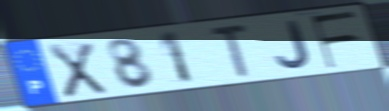1: (157, 29, 195, 87)
8: (106, 36, 156, 90)
F: (308, 9, 361, 71)
J: (274, 18, 314, 71)
T: (207, 23, 253, 81)
X: (45, 41, 110, 100)
